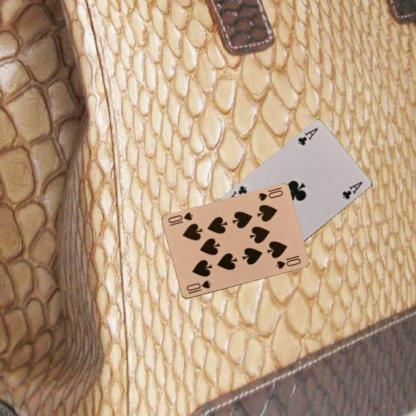10s: (184, 278, 212, 296), (256, 188, 284, 202)
Ac: (295, 125, 320, 147)
